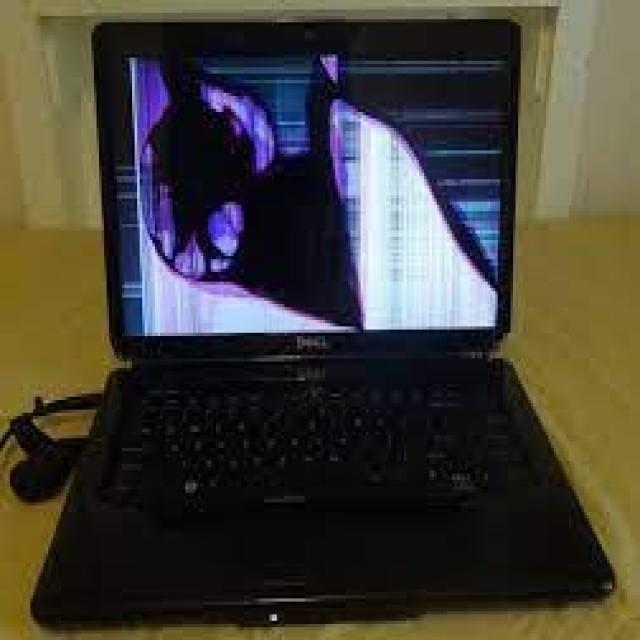Screen cracks: (127, 48, 513, 336)
